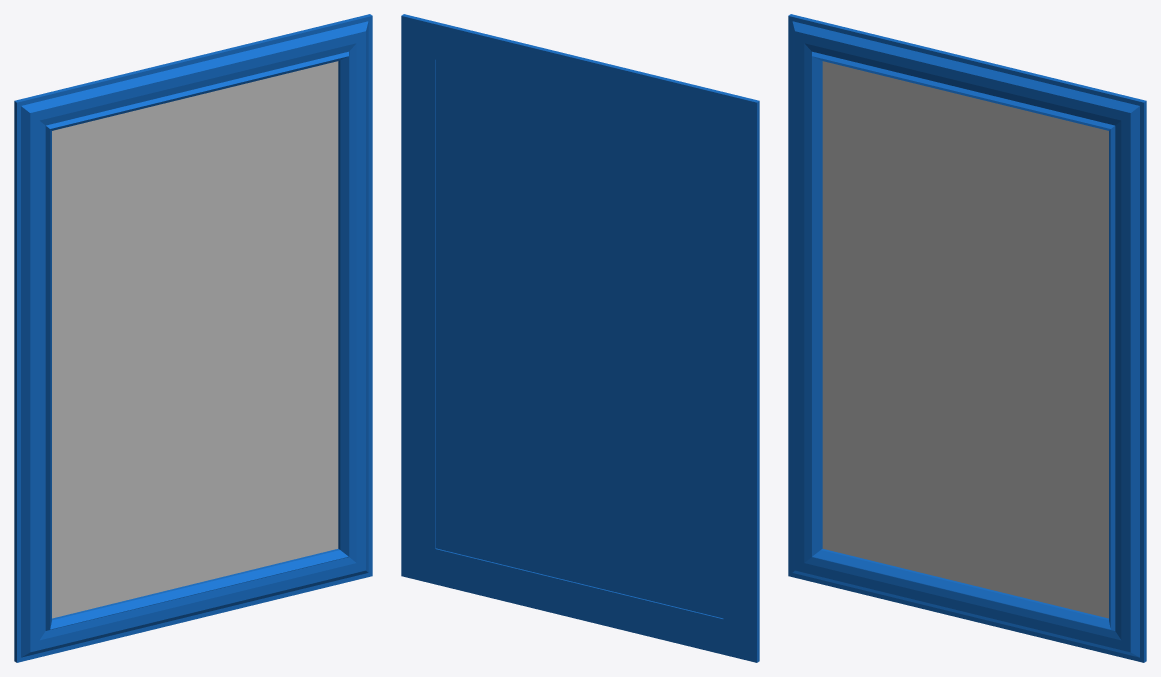
File: SM_painting4.fbx
3 views of the same model, side by side, from view 1: azimuth 30°, elevation 25°; view 2: azimuth 150°, elevation 25°; view 3: azimuth 330°, elevation 25° (orthographic).
Parts seen in each view (by area): view 1: painting4; view 2: painting4; view 3: painting4.
Part boxes in pixels (left/top/right/bottom): painting4: left=14, top=14, right=372, bottom=662; painting4: left=401, top=14, right=759, bottom=662; painting4: left=788, top=14, right=1146, bottom=662.
Size of the model in its own units: 90.67 by 136 by 3.23.
